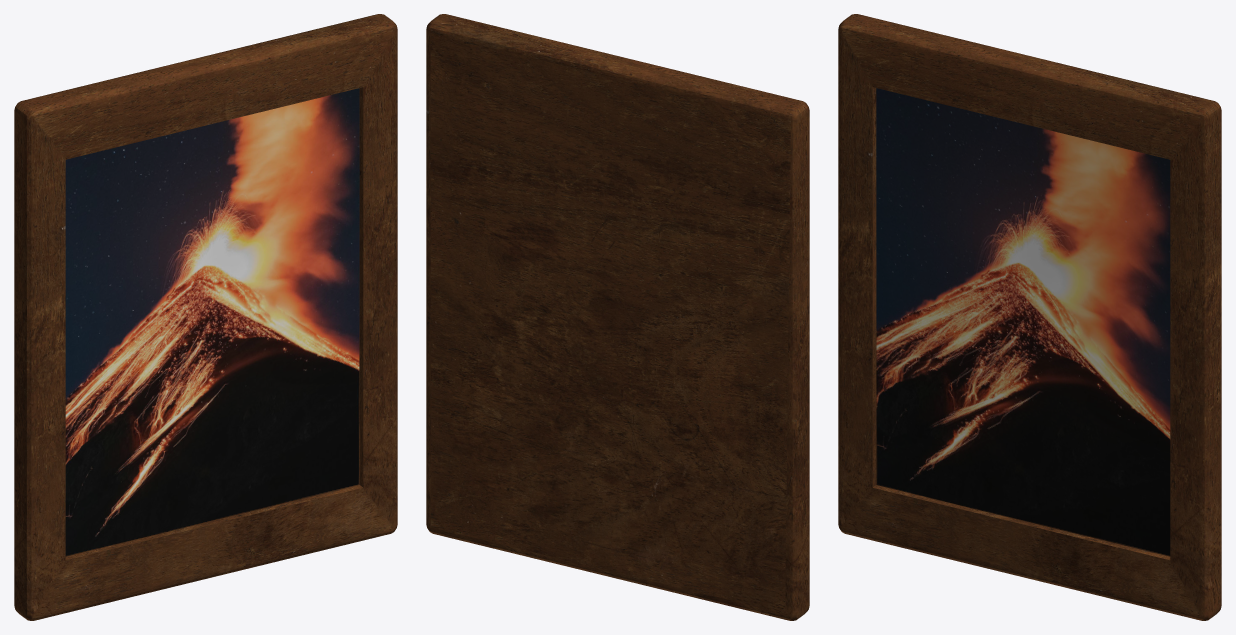
The model's file is FBX_CadreVolcan.fbx.
The picture shows the model from 3 angles, left to right: view 1: azimuth 30°, elevation 25°; view 2: azimuth 150°, elevation 25°; view 3: azimuth 330°, elevation 25°; orthographic projection.
Visible parts, largest first — view 1: cadre; view 2: cadre; view 3: cadre.
Boxes of the visible parts, <box> form: cadre: <box>14,14,397,620</box>; cadre: <box>426,14,809,620</box>; cadre: <box>838,14,1221,620</box>.
Bounding box in the file's own units: 8.24 × 10.83 × 0.6551.
